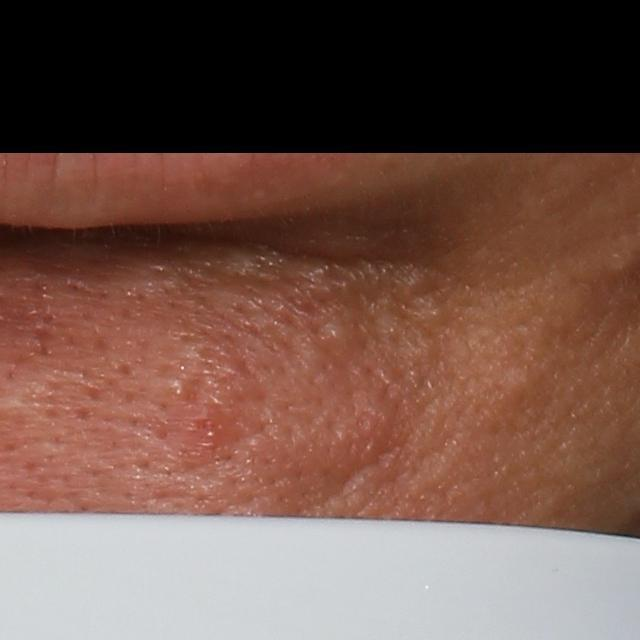comedo: (162, 372, 200, 410)
hypertrophic_scar: (295, 391, 402, 474), (386, 267, 436, 307), (414, 297, 456, 336)
